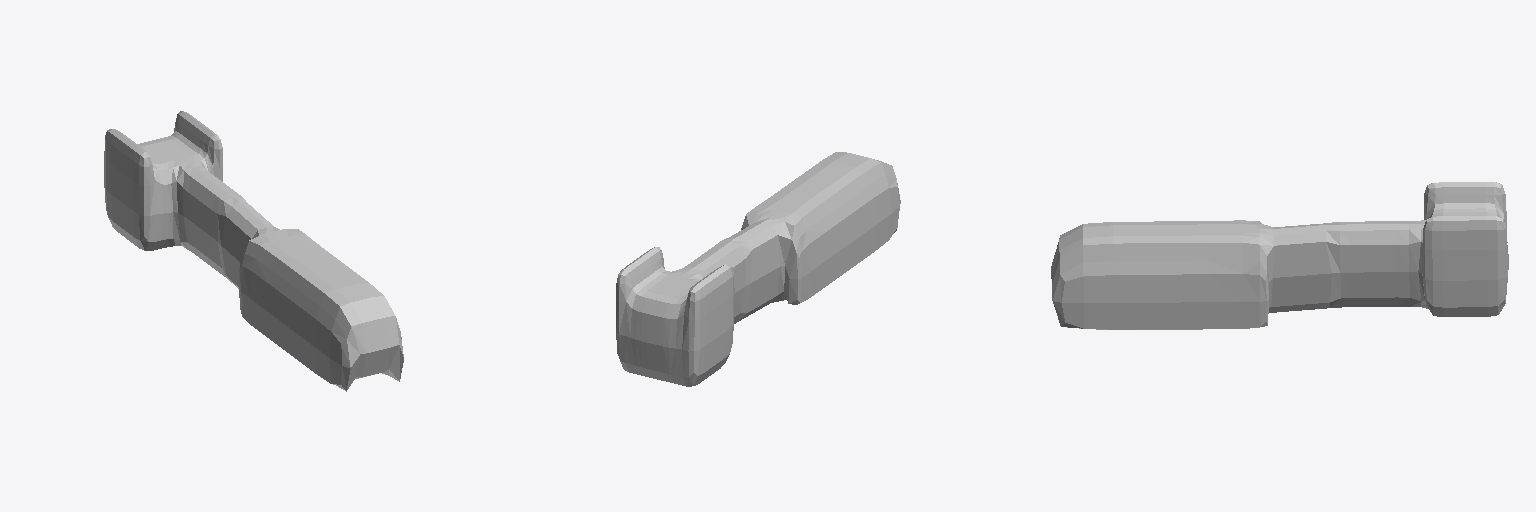
File: FinalPlatform.obj
3 views of the same model, side by side, from view 1: azimuth 30°, elevation 25°; view 2: azimuth 150°, elevation 25°; view 3: azimuth 270°, elevation 25° (orthographic).
Parts seen in each view (by area): view 1: FinalPlatform; view 2: FinalPlatform; view 3: FinalPlatform.
Boxes of the visible parts, <box> form: FinalPlatform: <box>104,111,403,391</box>; FinalPlatform: <box>616,152,900,386</box>; FinalPlatform: <box>1051,182,1508,329</box>.
Size of the model in its own units: 37.86 by 50.13 by 181.